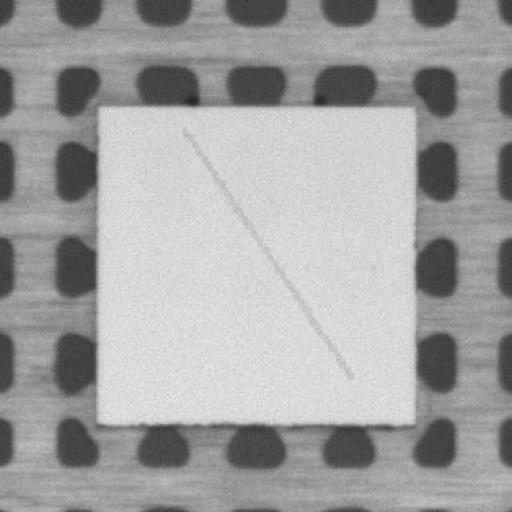DIE_CRACK: (182, 129, 350, 378)
